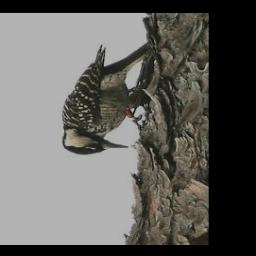Woodpecker: (61, 43, 155, 155)
